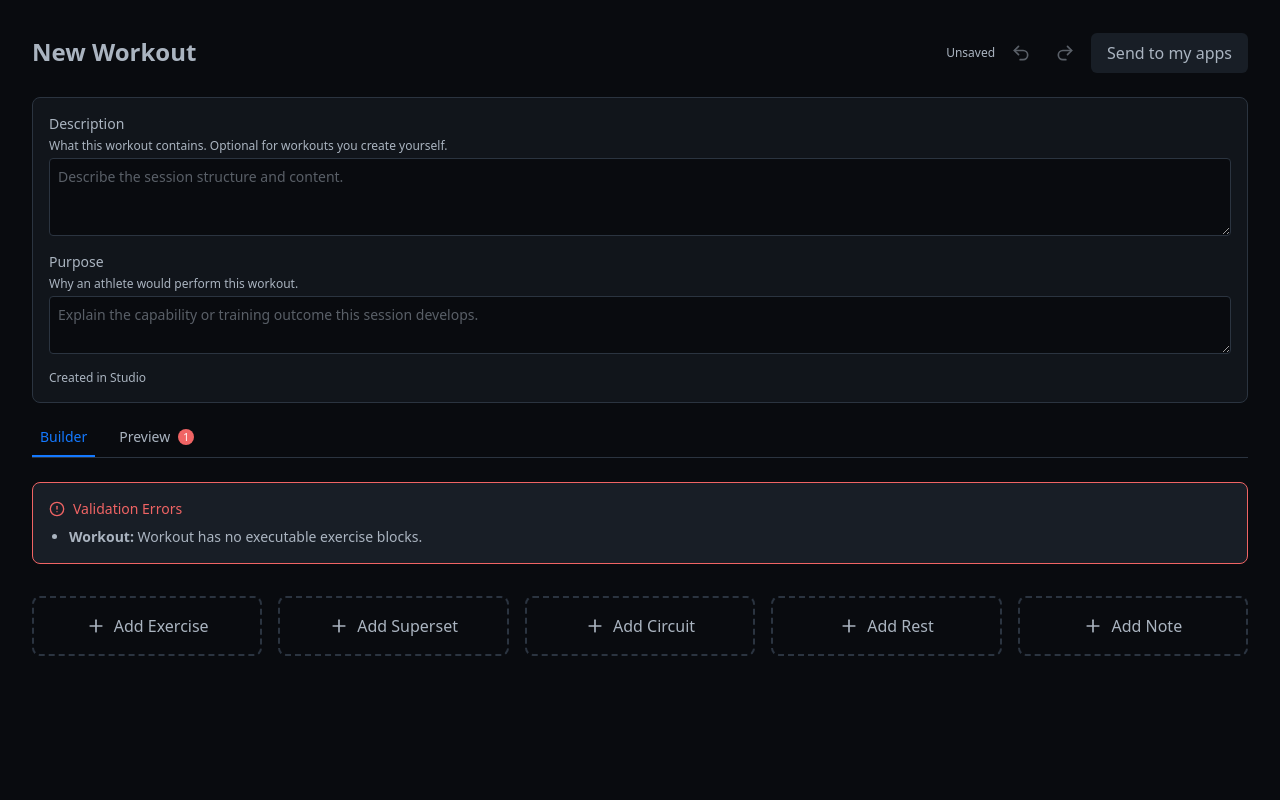
Test case: Acceptance Criteria › WorkoutBuilder › Strength exercise uses supported repetitions/load
Click the button "Add Exercise".
click(147, 626)  # box [32,596,262,656]
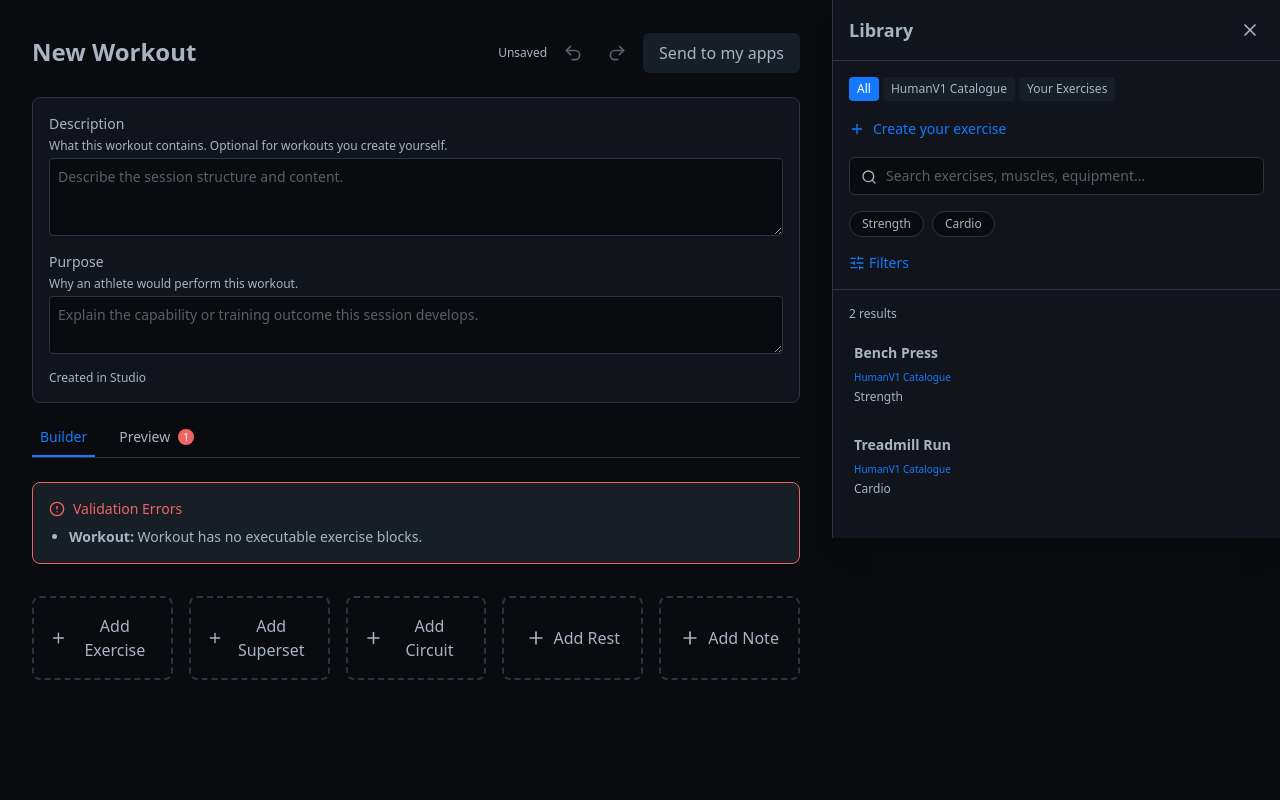
Click the text "Bench Press".
click(896, 352)  # box [854,343,938,362]
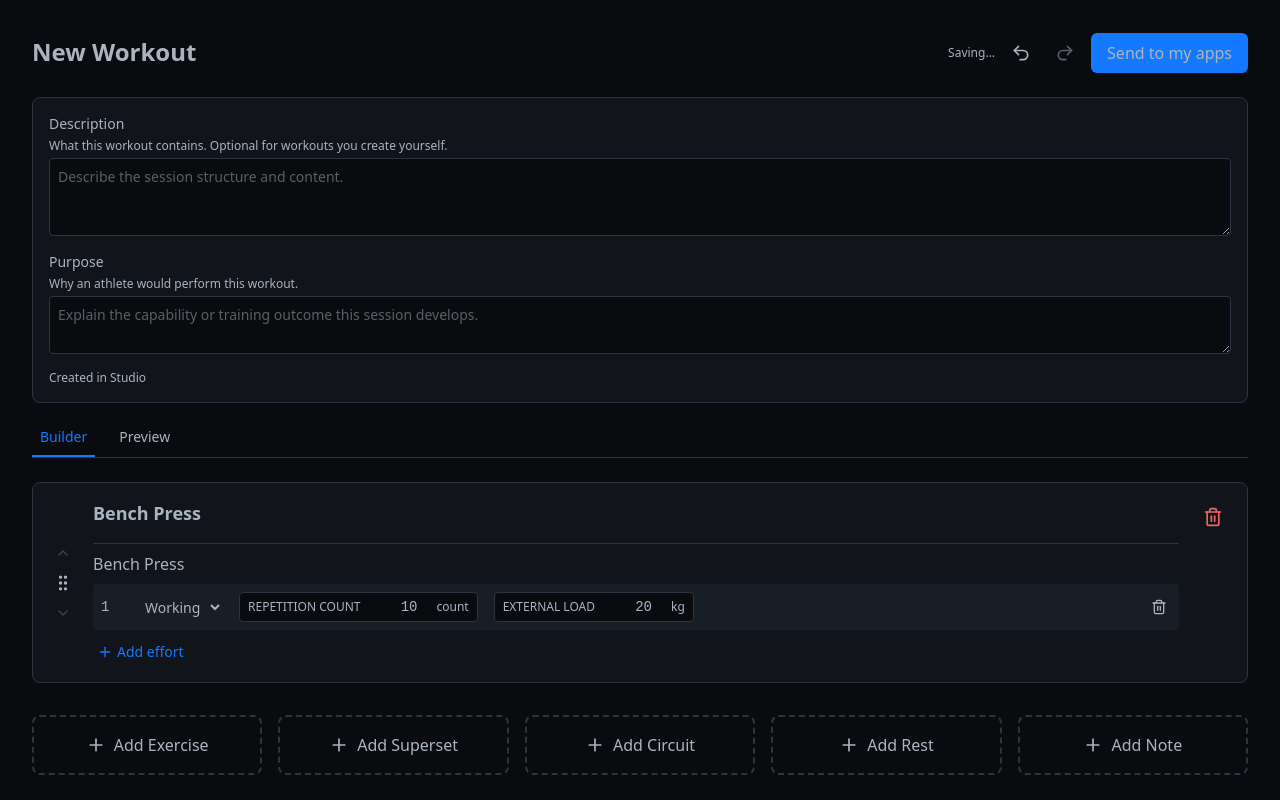
Check: the text "count" is shown, box [436,599,469,615]
Check: the text "kg" is shown, box [671,599,685,615]
